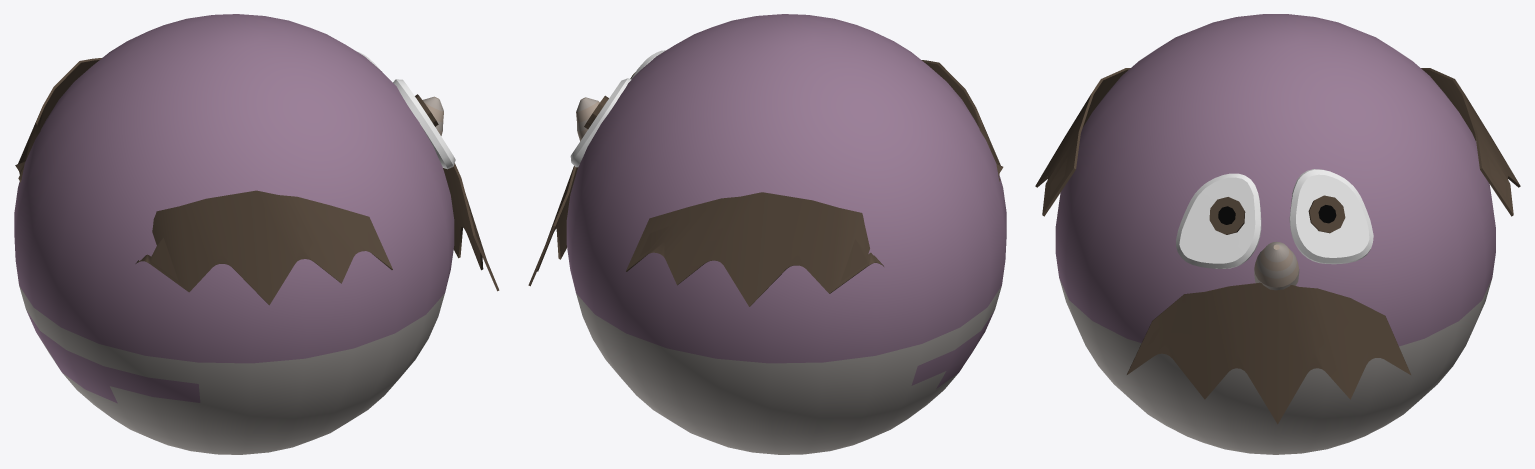
Rendered from Monster3.fbx.
The picture shows the model from 3 angles, left to right: view 1: azimuth 30°, elevation 25°; view 2: azimuth 150°, elevation 25°; view 3: azimuth 270°, elevation 25°; orthographic projection.
Visible parts, largest first — view 1: polySurface1; view 2: polySurface1; view 3: polySurface1.
Part boxes in pixels (x1,y1,x2,y2): polySurface1: (14, 14, 499, 454); polySurface1: (528, 14, 1006, 454); polySurface1: (1035, 14, 1520, 454).
Size of the model in its own units: 188 by 172 by 189.
